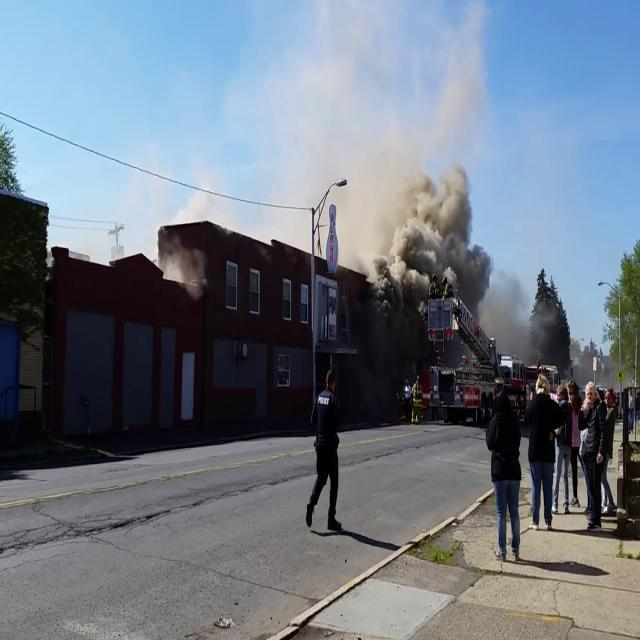Smoke: (345, 114, 495, 323), (482, 253, 576, 367)
